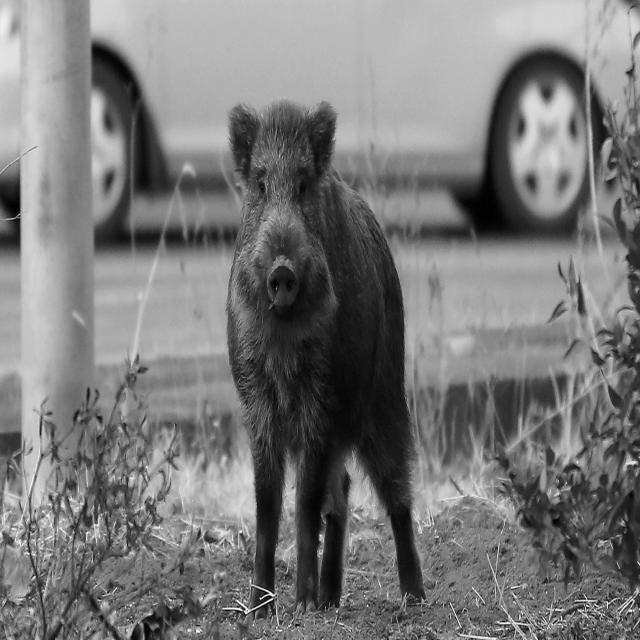boar: (227, 98, 425, 615)
